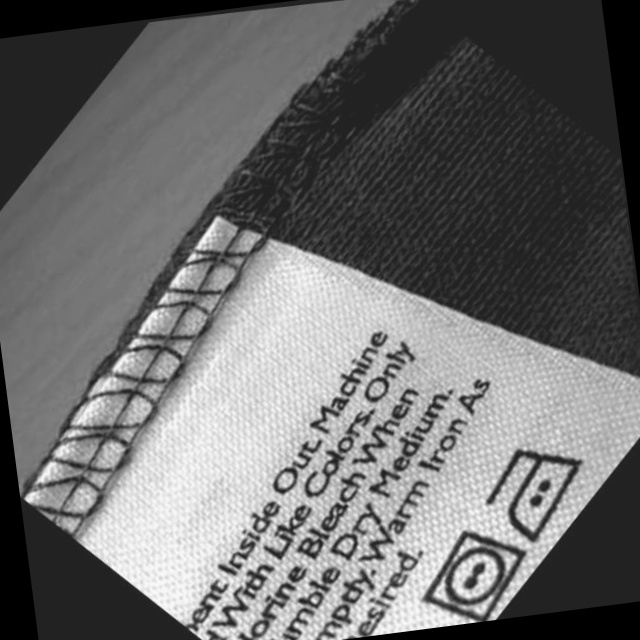iron_medium: (481, 439, 598, 545)
tumble_dry_medium: (417, 524, 537, 627)
